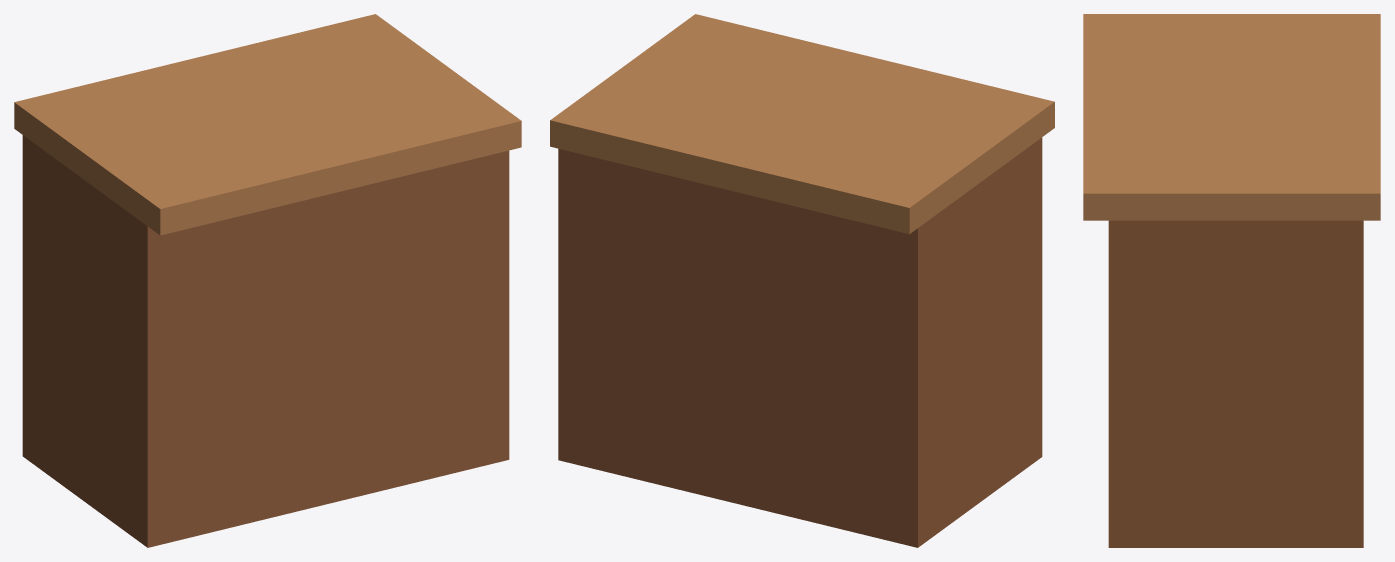
The model's file is counter.glb.
3 renders of one model, left to right at view 1: azimuth 30°, elevation 25°; view 2: azimuth 150°, elevation 25°; view 3: azimuth 270°, elevation 25°, orthographic. The views are drawn at different scales.
Visible parts, largest first — view 1: counter; view 2: counter; view 3: counter.
Part boxes in pixels (bbox=[...]): counter: bbox=[14, 14, 521, 547]; counter: bbox=[550, 14, 1054, 547]; counter: bbox=[1083, 14, 1380, 547].
Bounding box in the file's own units: 1 × 0.92 × 0.7.
